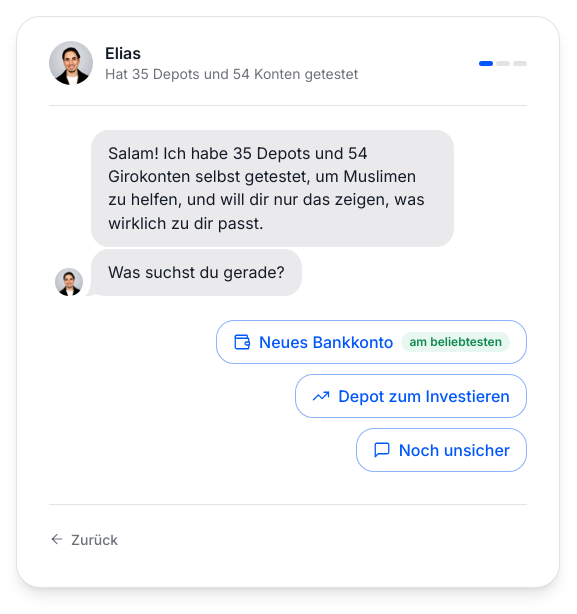
Test case: Chat › „Noch unsicher“ führt in den Bankkonto-Weg mit einem Satz dazu
Click the button "Noch unsicher": (441, 450) [356,428,527,472]
Wait 300 ms
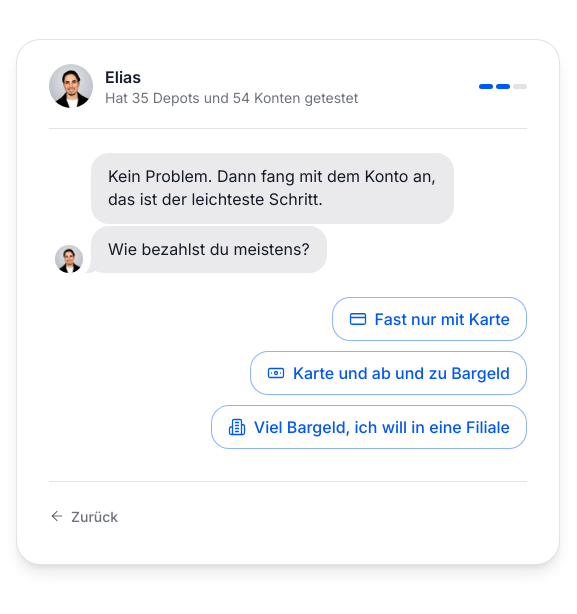
Expected: the heading reads "Wie bezahlst du meistens?", [108,239,310,259]
Expected: the text with class "hc-sprech" reads "Kein Problem. Dann fang mit dem Konto an, das ist der leichteste Schritt.", [108,166,436,209]
